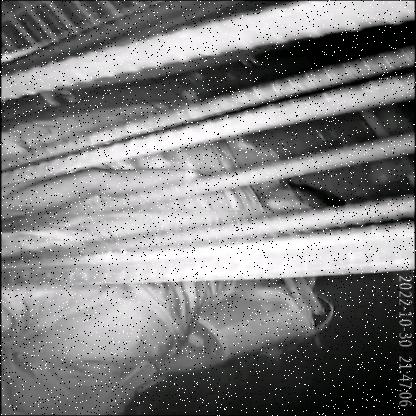hand: (4, 163, 204, 213)
